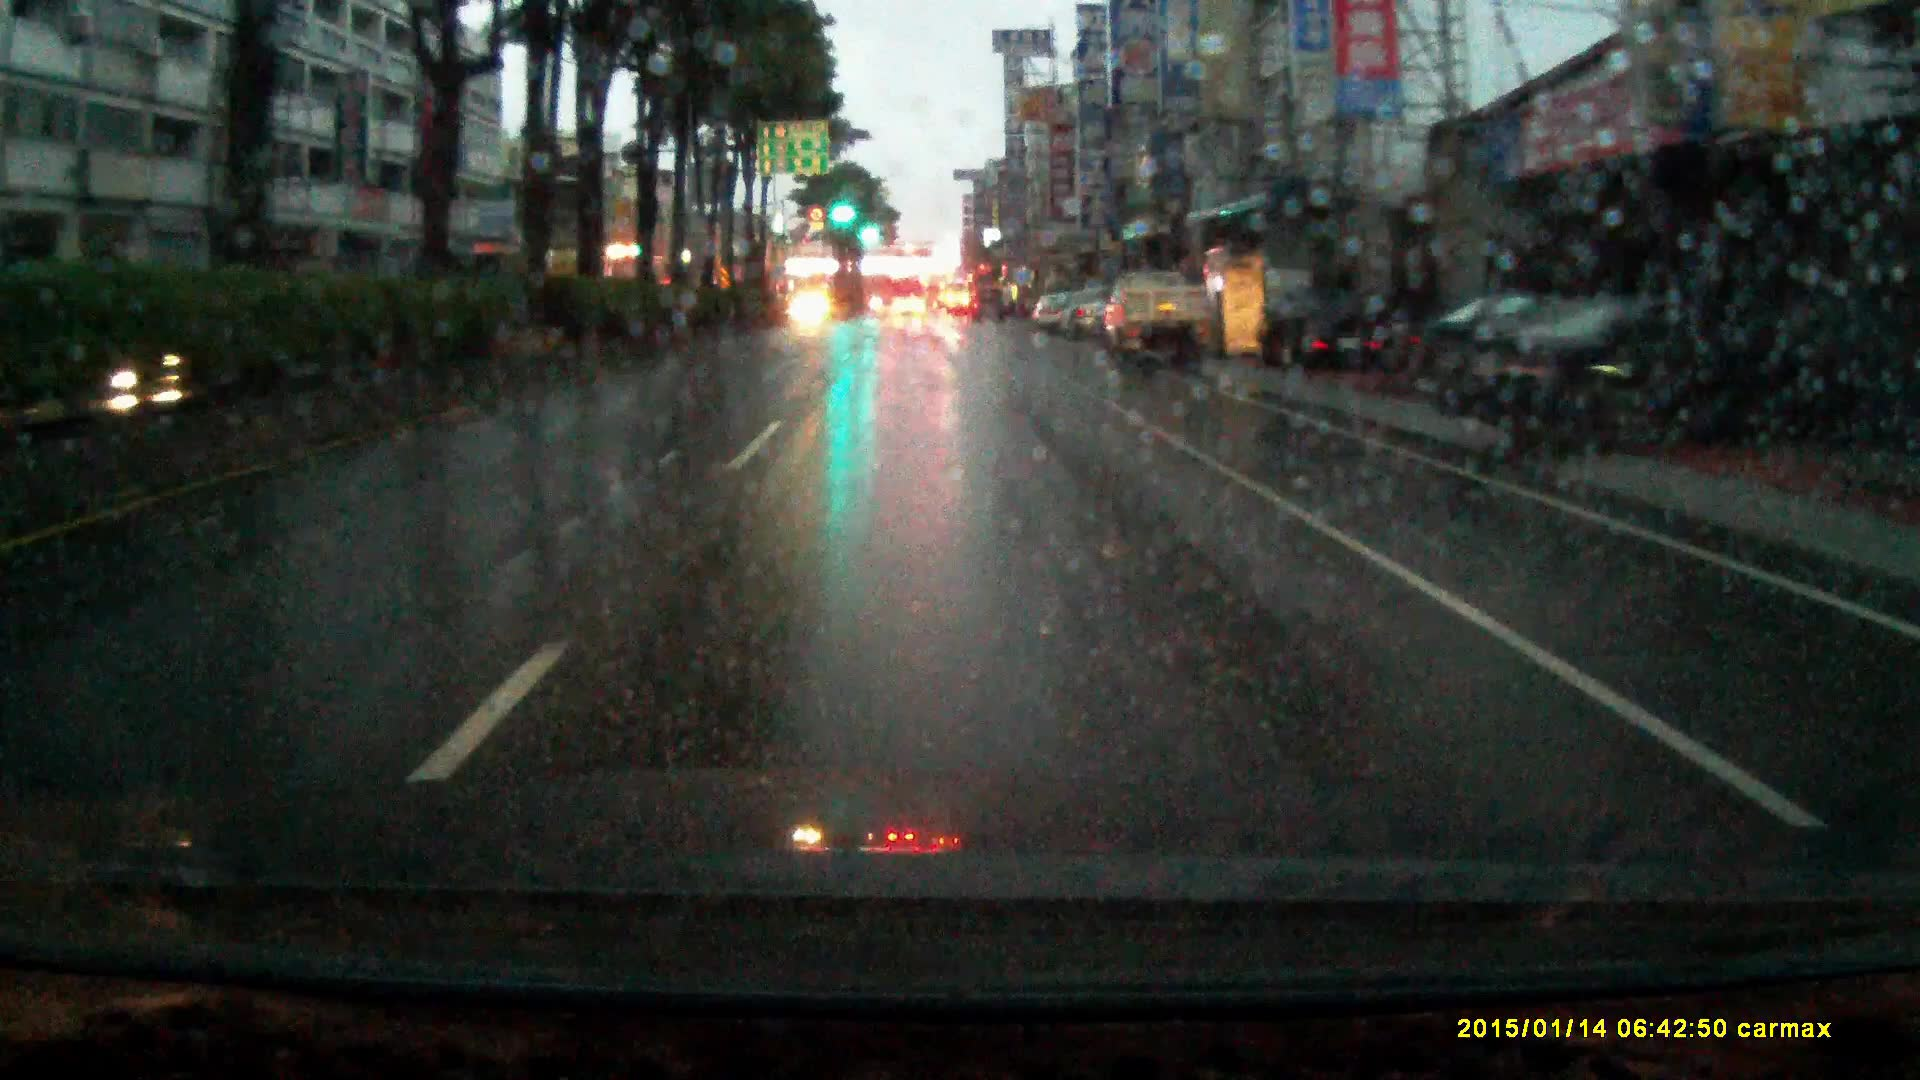vehicle: (1433, 298, 1871, 460), (1406, 298, 1578, 404), (1259, 287, 1387, 373), (1102, 269, 1215, 367), (1060, 287, 1113, 340), (791, 290, 833, 332), (1033, 291, 1073, 334), (969, 287, 1007, 324), (891, 295, 927, 322), (926, 276, 947, 314)
